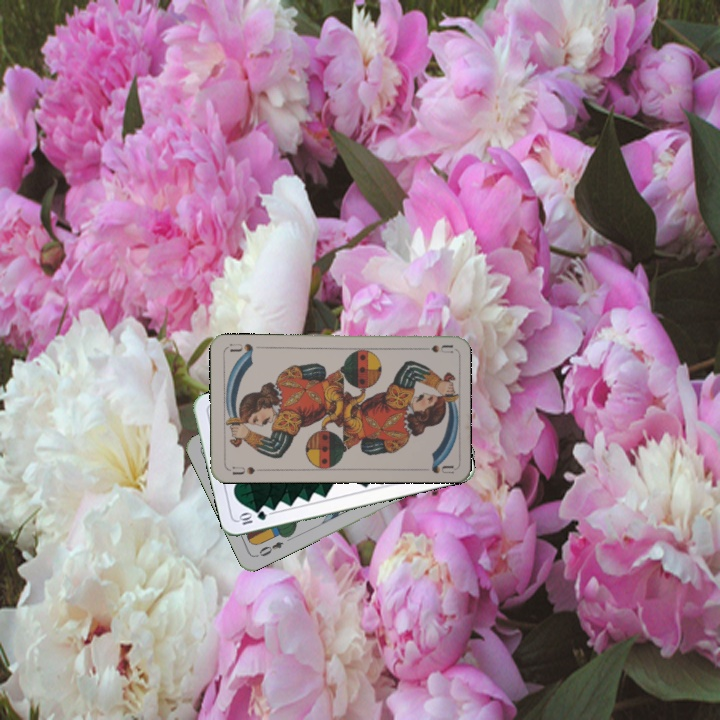EO: (252, 537, 286, 560)
G10: (235, 507, 269, 527)
SU: (413, 341, 454, 355), (228, 462, 266, 477)
